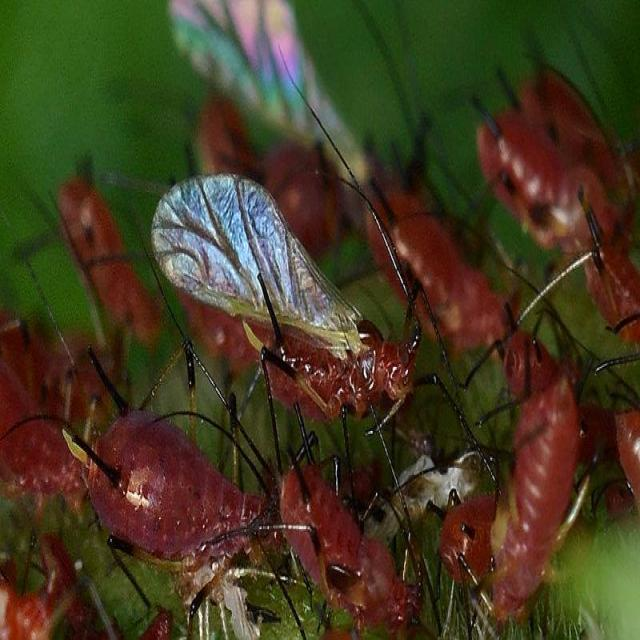aphid: (49, 352, 298, 594), (458, 352, 592, 614)
